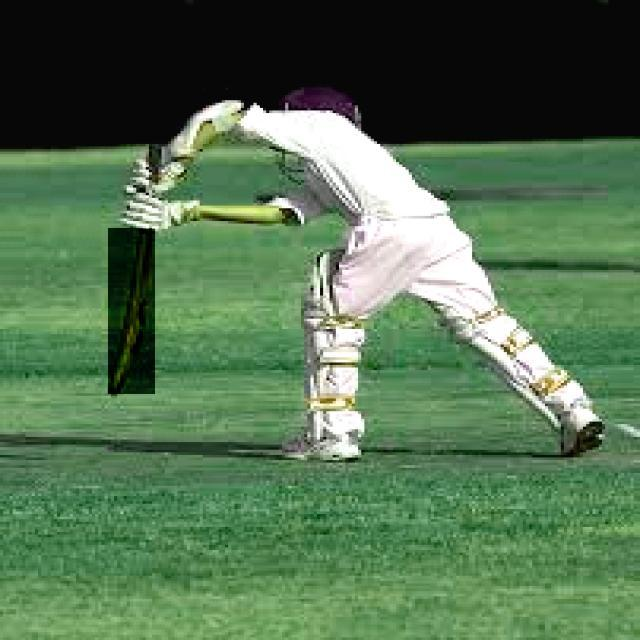bat: (111, 228, 155, 393)
toe: (95, 374, 137, 401)
